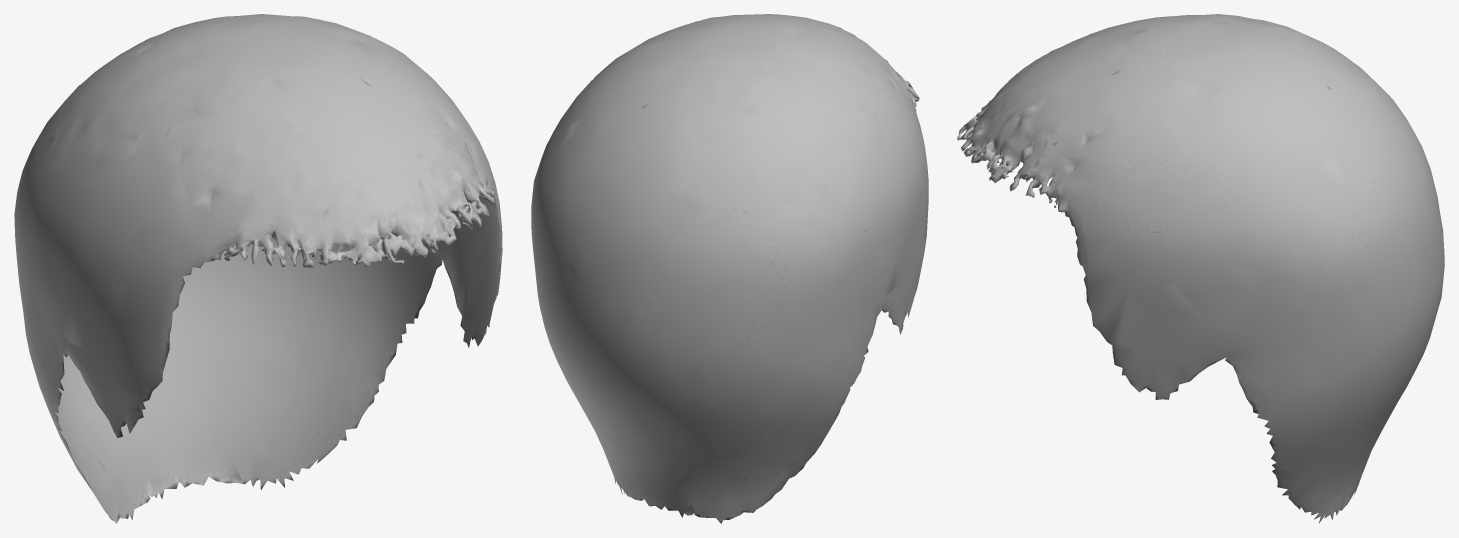
The model's file is hair_crop.glb.
3 views of the same model, side by side, from view 1: azimuth 30°, elevation 25°; view 2: azimuth 150°, elevation 25°; view 3: azimuth 270°, elevation 25° (orthographic). The views are drawn at different scales.
Parts seen in each view (by area): view 1: Hair; view 2: Hair; view 3: Hair.
Boxes of the visible parts, x1,y1,x2,y2 form: Hair: (14,14,502,523); Hair: (531,14,928,523); Hair: (957,14,1444,522).
Size of the model in its own units: 0.8134 by 1.02 by 0.9939.
1 material, 1 textured.
